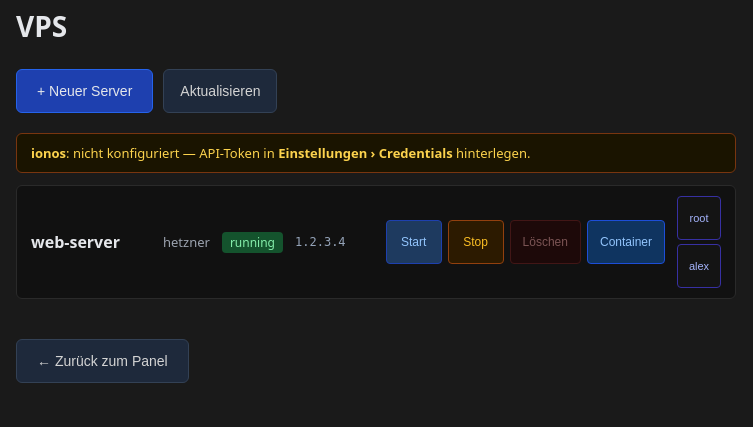
Test case: VpsView — AC9 (view-vps): Mutations-Feedback › AC9 — "unsupported" Ergebnis (HTTP 200) wird als Hinweis (role="status", nicht "alert") gezeigt
Click the button with aria-label "web-server starten": (414, 242) [386, 220, 442, 264]
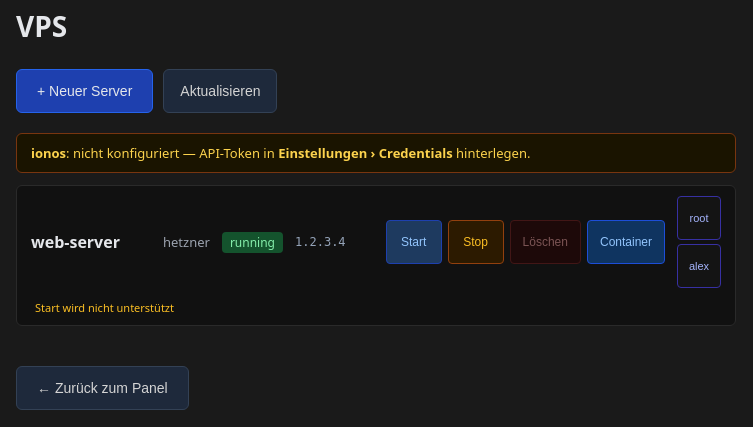
Expected: the message "Start wird nicht unterstützt" is shown, [35, 300, 174, 315]
